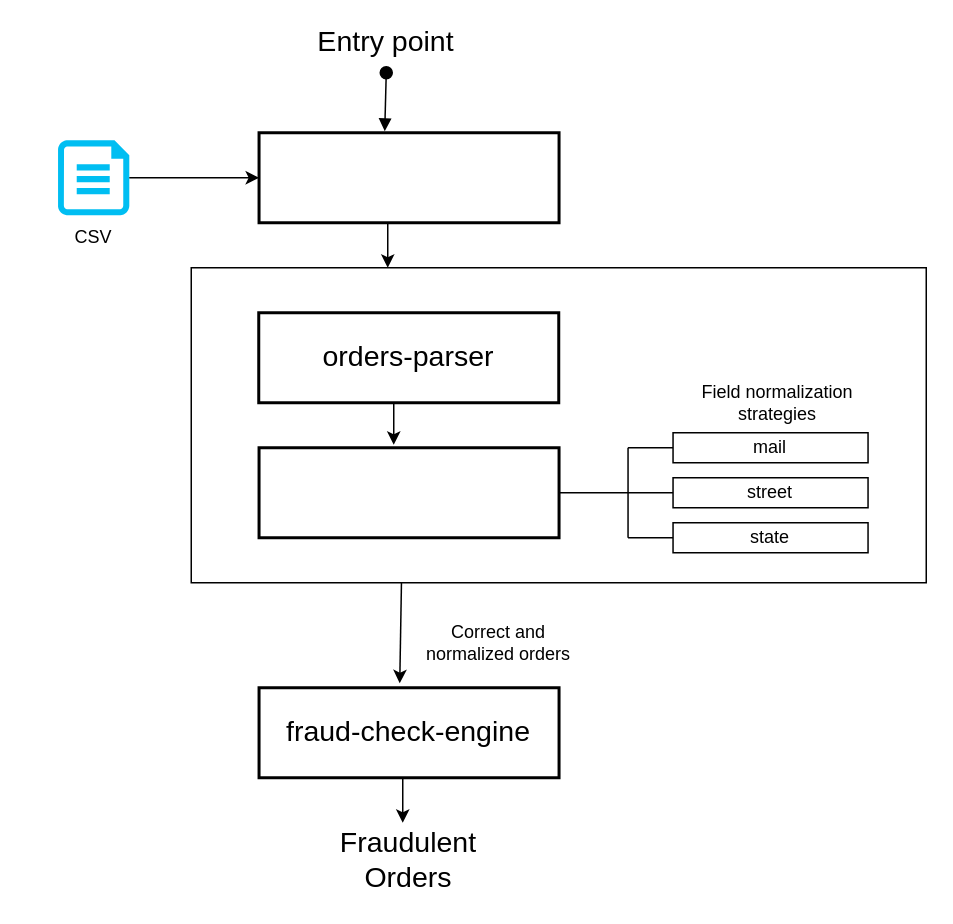
The diagram is 953 pixels wide and 924 high, and some of its shapes have lost their labels. Each missing label, with the centre of its shape:
file-reader: (408,177)
normalizer: (408,492)
